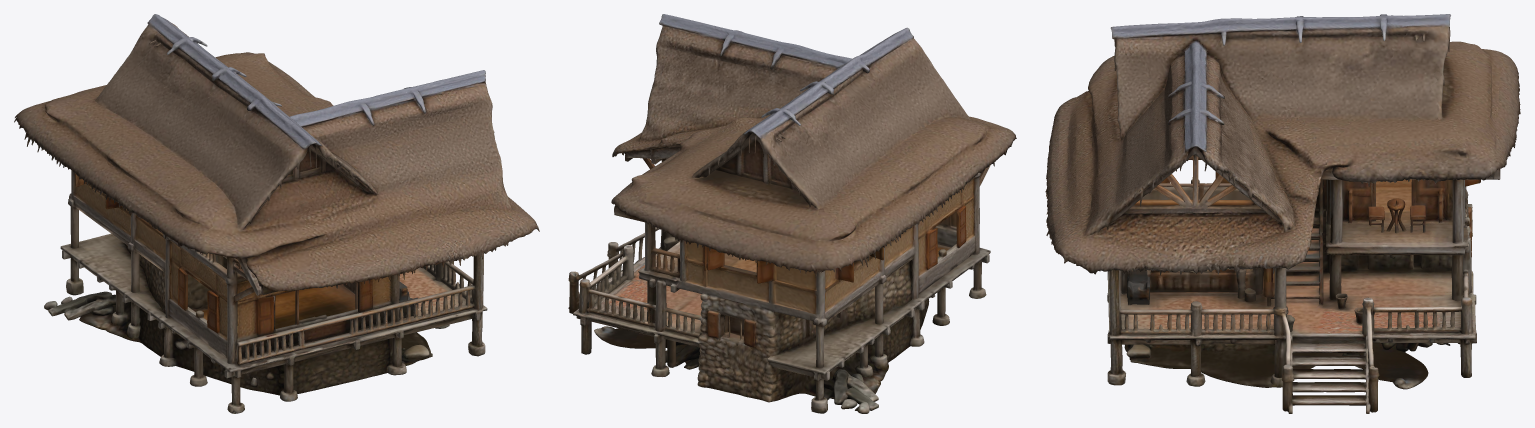
Rendered from wooden_house_3d_model_free.glb.
3 views of the same model, side by side, from view 1: azimuth 30°, elevation 25°; view 2: azimuth 150°, elevation 25°; view 3: azimuth 270°, elevation 25° (orthographic). The views are drawn at different scales.
Parts seen in each view (by area): view 1: tripo_node_eaf1e8a0-7ea2-47d0-969c-26a2dc2f5805_0; view 2: tripo_node_eaf1e8a0-7ea2-47d0-969c-26a2dc2f5805_0; view 3: tripo_node_eaf1e8a0-7ea2-47d0-969c-26a2dc2f5805_0.
Boxes of the visible parts, x1,y1,x2,y2 form: tripo_node_eaf1e8a0-7ea2-47d0-969c-26a2dc2f5805_0: (14, 14, 539, 413); tripo_node_eaf1e8a0-7ea2-47d0-969c-26a2dc2f5805_0: (568, 14, 1016, 413); tripo_node_eaf1e8a0-7ea2-47d0-969c-26a2dc2f5805_0: (1045, 14, 1520, 413).
Bounding box in the file's own units: 0.9022 × 0.658 × 1.
Materials: 1 (1 with a texture image).
